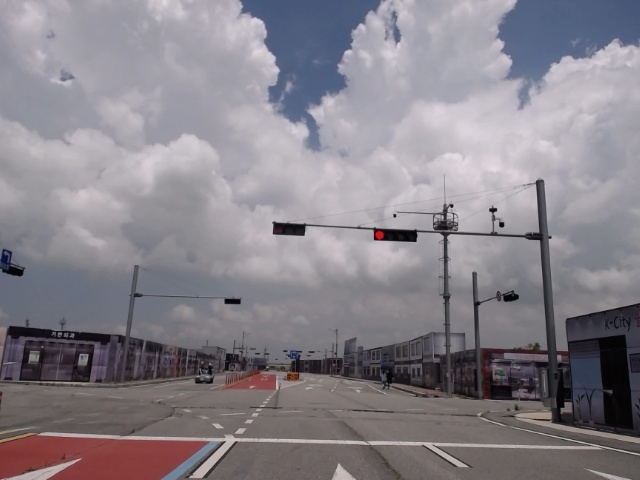red_4: (374, 230, 417, 242)
